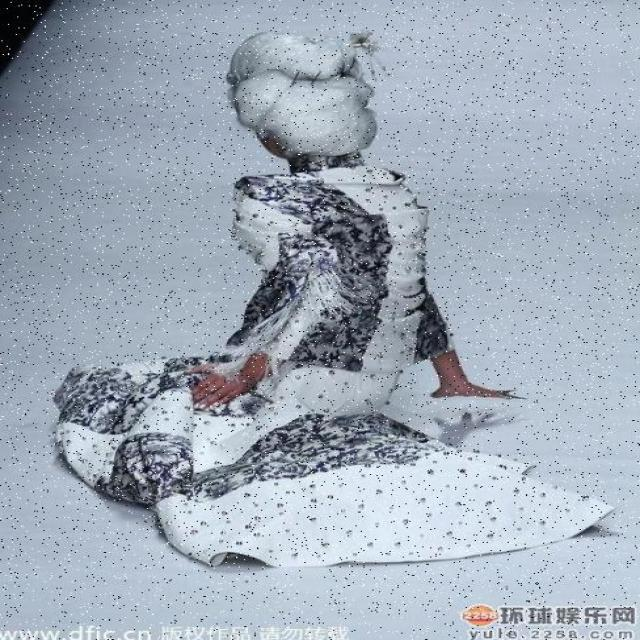fall: (108, 50, 520, 548)
